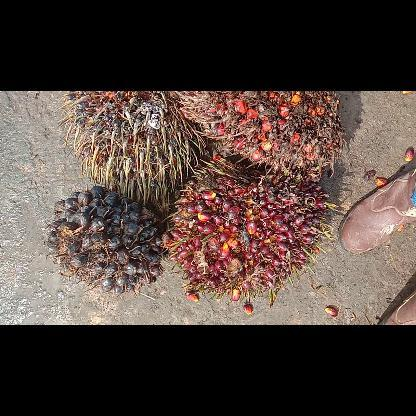TBS abnormal: (63, 90, 206, 198)
TBS masak: (164, 158, 336, 300)
TBS mentah: (46, 184, 164, 289)
Terlalu masak: (178, 90, 346, 182)
